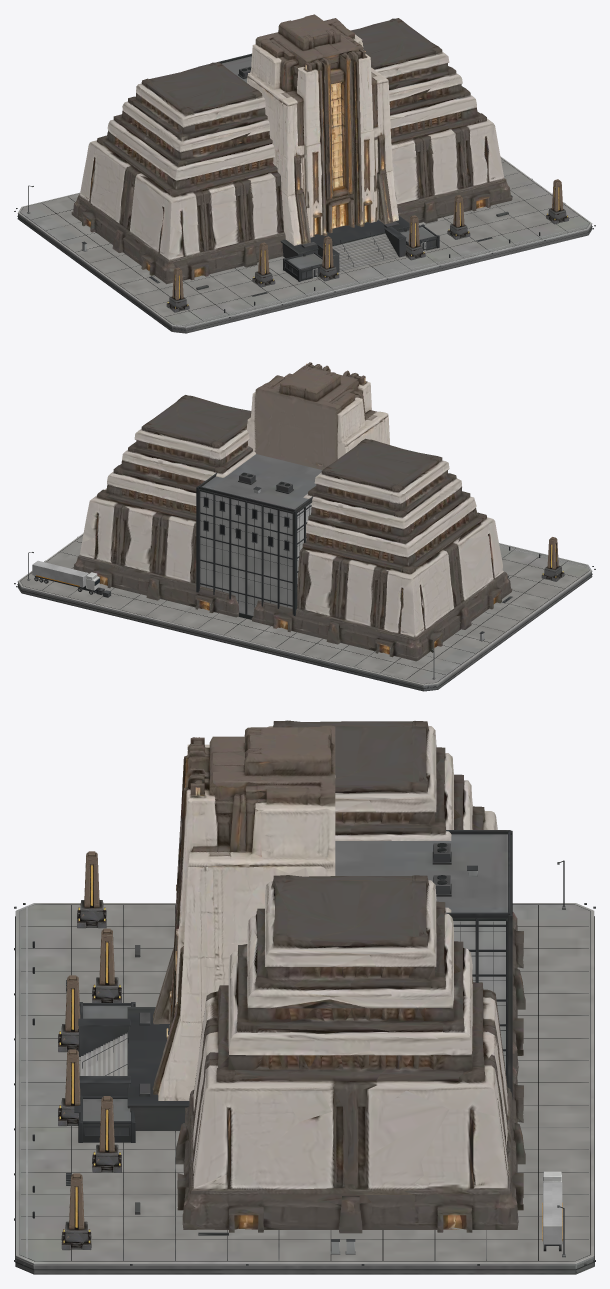
The model's file is library.lite.glb.
3 views of the same model, one above another, from view 1: azimuth 30°, elevation 25°; view 2: azimuth 150°, elevation 25°; view 3: azimuth 270°, elevation 25° (orthographic). The views are drawn at different scales.
Visible parts, largest first — view 1: parts_colony-steppedWing, hull, parts_colony-portalTower, parts_colony-monumentPylon; view 2: parts_colony-steppedWing, hull, parts_colony-portalTower, parts_yard-truck, parts_colony-monumentPylon; view 3: parts_colony-steppedWing, hull, parts_colony-portalTower, parts_colony-monumentPylon, parts_yard-truck.
Boxes of the visible parts, x1,y1,x2,y2 form: parts_colony-steppedWing: [71, 18, 512, 284]; hull: [14, 53, 595, 333]; parts_colony-portalTower: [247, 14, 398, 245]; parts_colony-monumentPylon: [166, 179, 568, 312]; parts_colony-steppedWing: [73, 395, 512, 661]; hull: [14, 454, 595, 691]; parts_colony-portalTower: [247, 362, 389, 469]; parts_yard-truck: [32, 560, 100, 594]; parts_colony-monumentPylon: [541, 537, 564, 581]; parts_colony-steppedWing: [175, 720, 525, 1233]; hull: [14, 830, 595, 1274]; parts_colony-portalTower: [152, 725, 335, 1100]; parts_colony-monumentPylon: [58, 851, 121, 1250]; parts_yard-truck: [542, 1171, 562, 1251].
Size of the model in its own units: 112 by 51.22 by 76.42.
6 materials, 6 textured.
